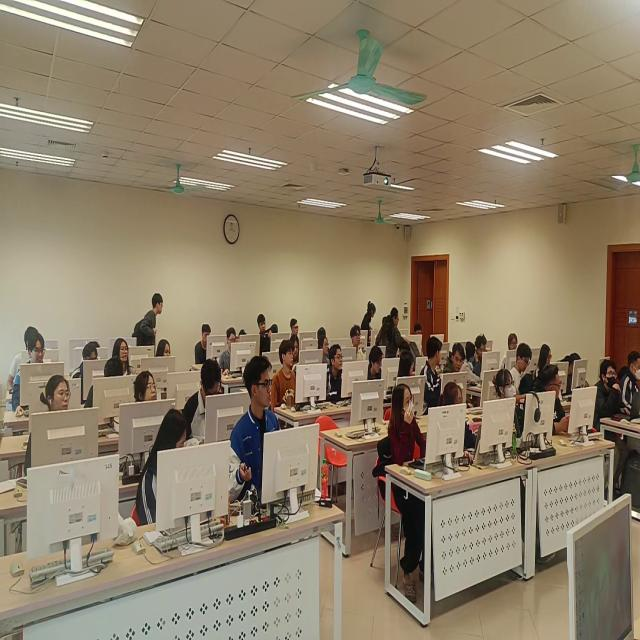raise_head: (229, 355, 281, 509), (24, 375, 74, 480), (11, 331, 47, 413), (389, 385, 419, 464), (595, 359, 624, 428), (272, 341, 299, 411), (326, 344, 345, 402), (113, 338, 136, 377), (135, 371, 159, 405), (495, 369, 518, 400), (350, 326, 367, 363), (440, 383, 464, 407), (503, 333, 518, 370), (317, 334, 331, 364), (156, 338, 172, 359)
stand: (134, 293, 165, 349), (375, 308, 407, 359), (258, 314, 280, 356), (362, 301, 377, 346)
using_computer: (134, 410, 188, 528), (184, 359, 224, 446), (84, 356, 125, 410), (8, 323, 38, 396), (618, 350, 640, 425), (71, 342, 102, 380), (557, 352, 583, 397), (512, 343, 534, 395), (220, 328, 239, 376), (195, 324, 212, 364), (536, 344, 553, 380), (369, 345, 385, 381), (414, 323, 426, 358), (289, 319, 302, 340), (290, 338, 300, 364), (236, 327, 248, 342), (317, 326, 327, 339), (89, 340, 101, 348)
